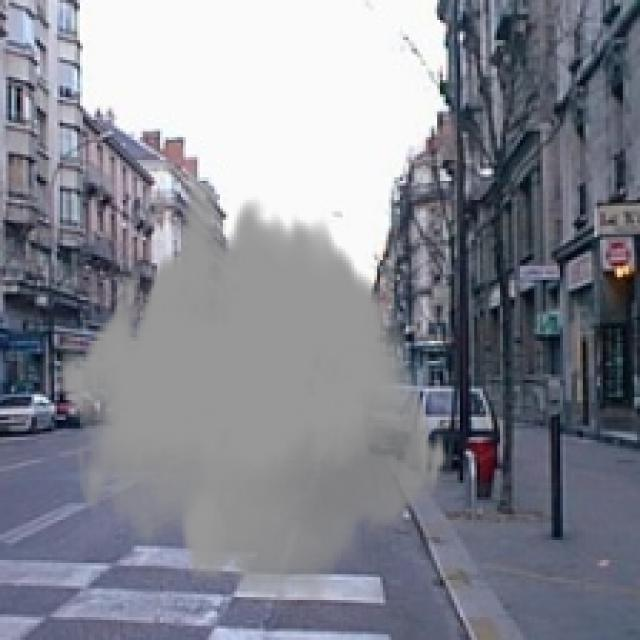smoke: (57, 186, 449, 608)
